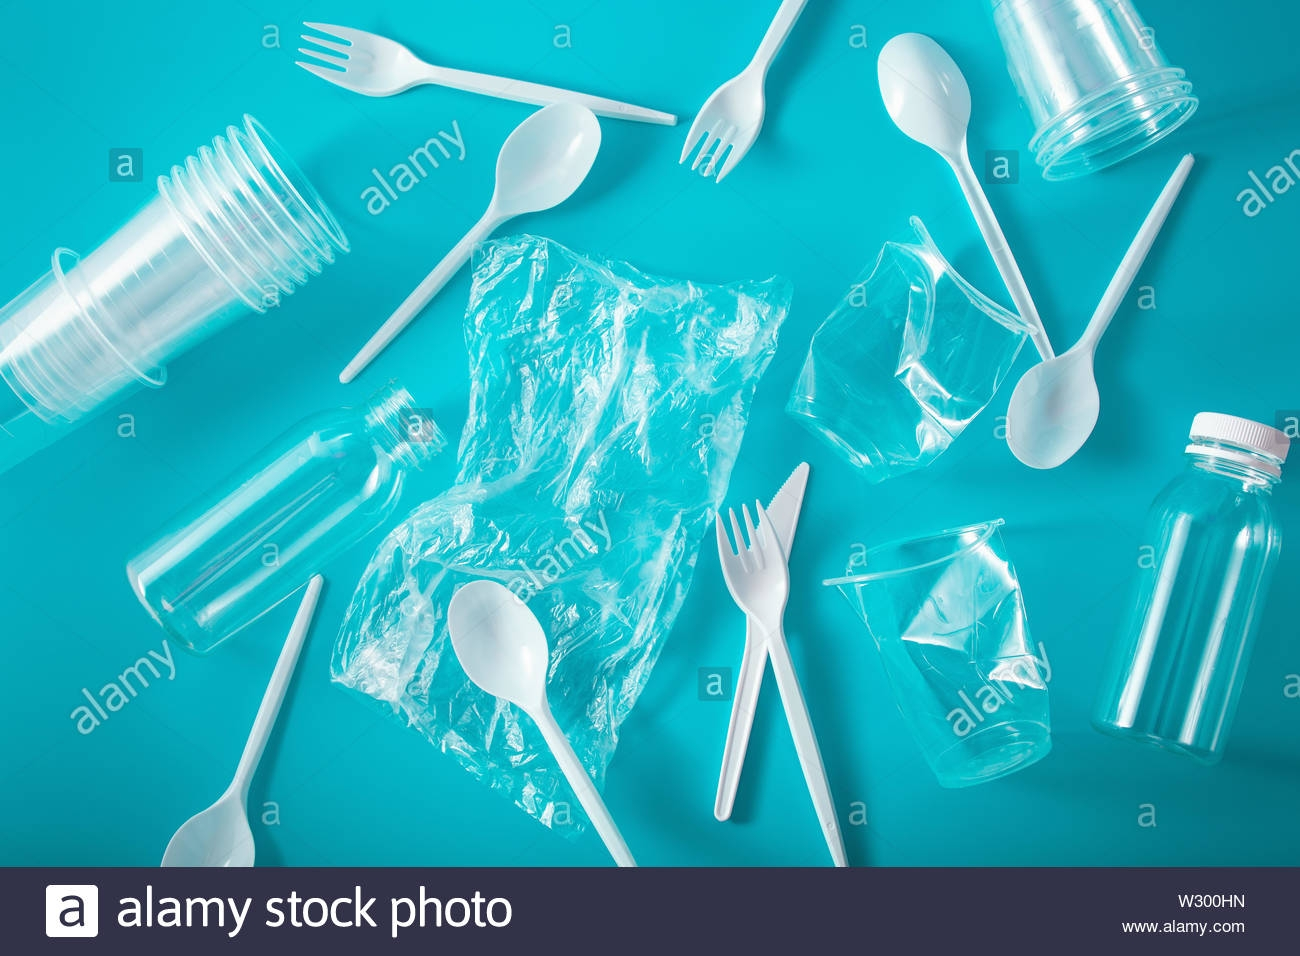plastic: (325, 226, 795, 843), (1, 91, 364, 490), (120, 374, 479, 666), (324, 94, 639, 398), (675, 452, 893, 868), (973, 148, 1235, 476), (1082, 393, 1299, 778), (820, 509, 1101, 798), (784, 216, 1040, 494), (146, 566, 384, 865), (869, 28, 1058, 363), (436, 578, 637, 869), (950, 1, 1229, 188), (287, 13, 679, 140), (671, 1, 845, 190)
